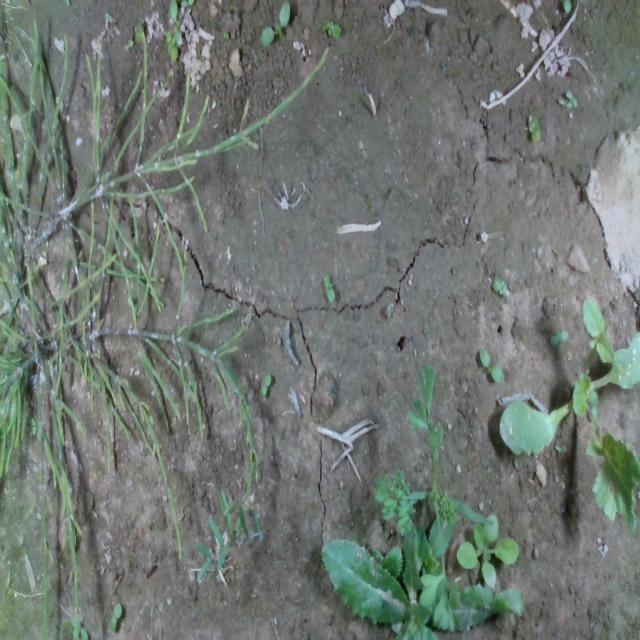weed: (258, 0, 290, 46), (478, 347, 504, 383), (320, 16, 342, 37), (491, 275, 510, 297), (109, 600, 122, 632), (322, 271, 335, 301), (527, 113, 541, 140), (260, 371, 272, 398), (550, 327, 568, 345), (222, 30, 230, 40)
